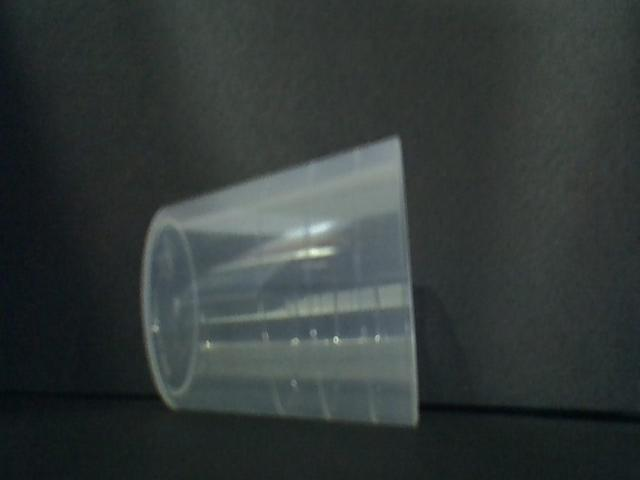cup: (136, 126, 435, 434)
